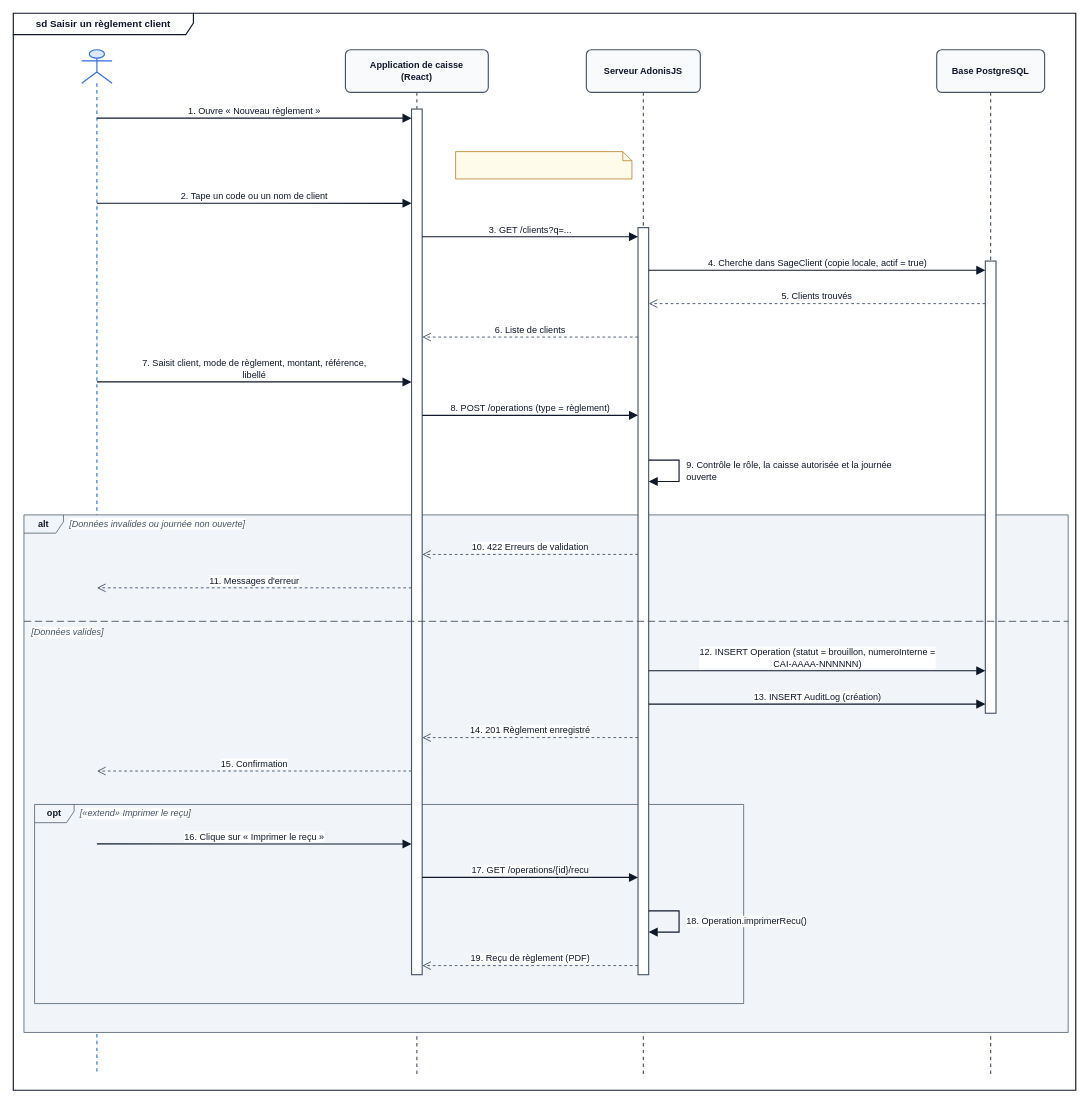
The diagram is 1090 pixels wide and 1104 high, and some of its shapes have lost their labels. The shapes that lost their labels are listed below. From the top down, each one's centre as x and y in pixels, then its label:
point 543,165: «include» Rechercher un client
point 96,562: Caissier
